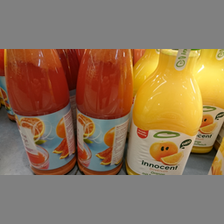juice: (125, 49, 204, 175), (4, 49, 77, 175), (75, 49, 136, 175)
